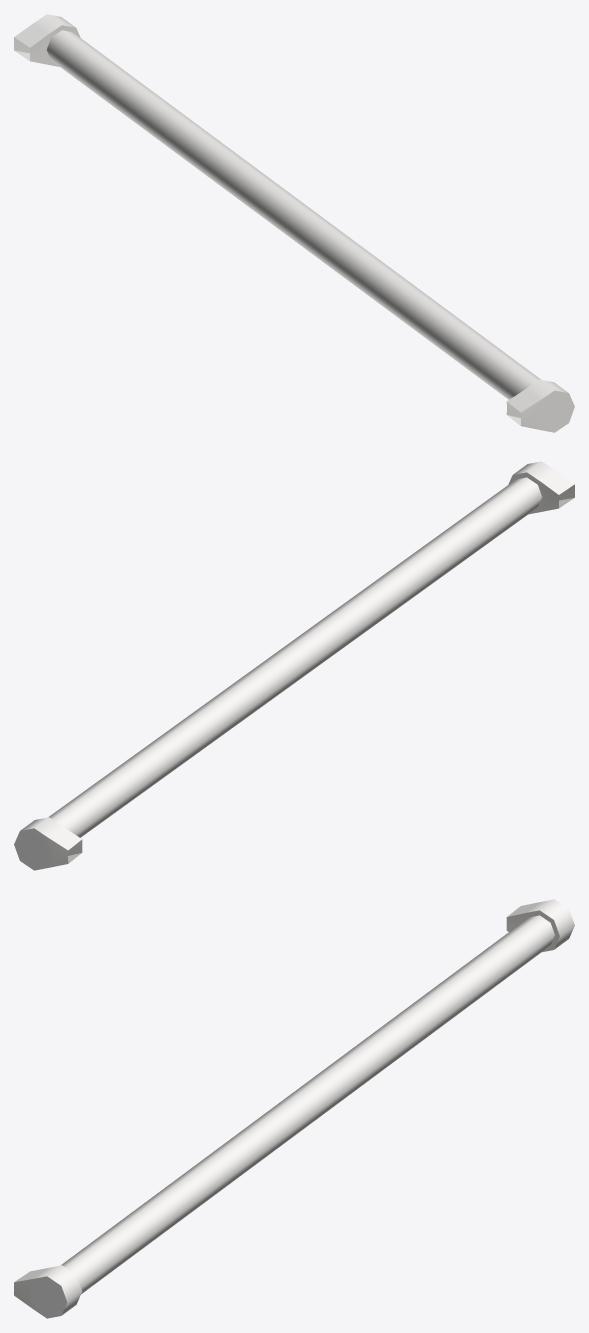
The model's file is Childroom2_Cornice.fbx.
3 renders of one model, top to bottom at view 1: azimuth 30°, elevation 25°; view 2: azimuth 150°, elevation 25°; view 3: azimuth 330°, elevation 25°, orthographic.
Parts seen in each view (by area): view 1: Childroom2_Cornice; view 2: Childroom2_Cornice; view 3: Childroom2_Cornice.
Boxes of the visible parts, x1,y1,x2,y2 form: Childroom2_Cornice: (14, 14, 574, 432); Childroom2_Cornice: (14, 461, 574, 870); Childroom2_Cornice: (14, 899, 574, 1318).
Size of the model in its own units: 18.77 by 15.73 by 305.
